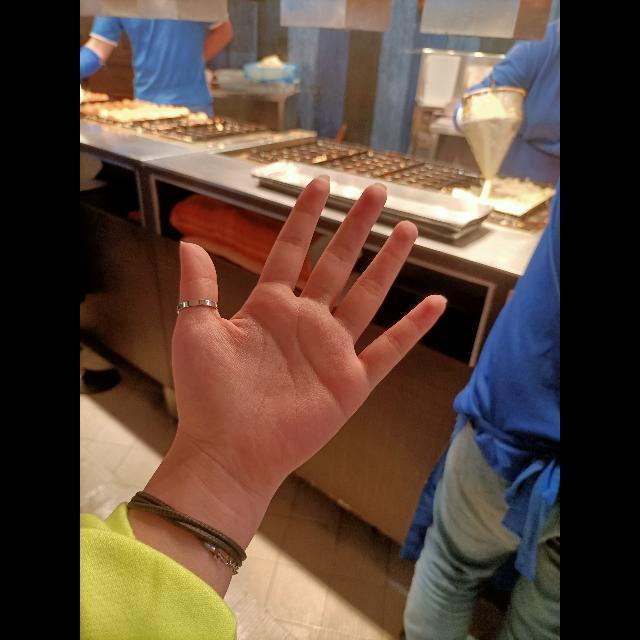bare_hand: (128, 165, 462, 476)
